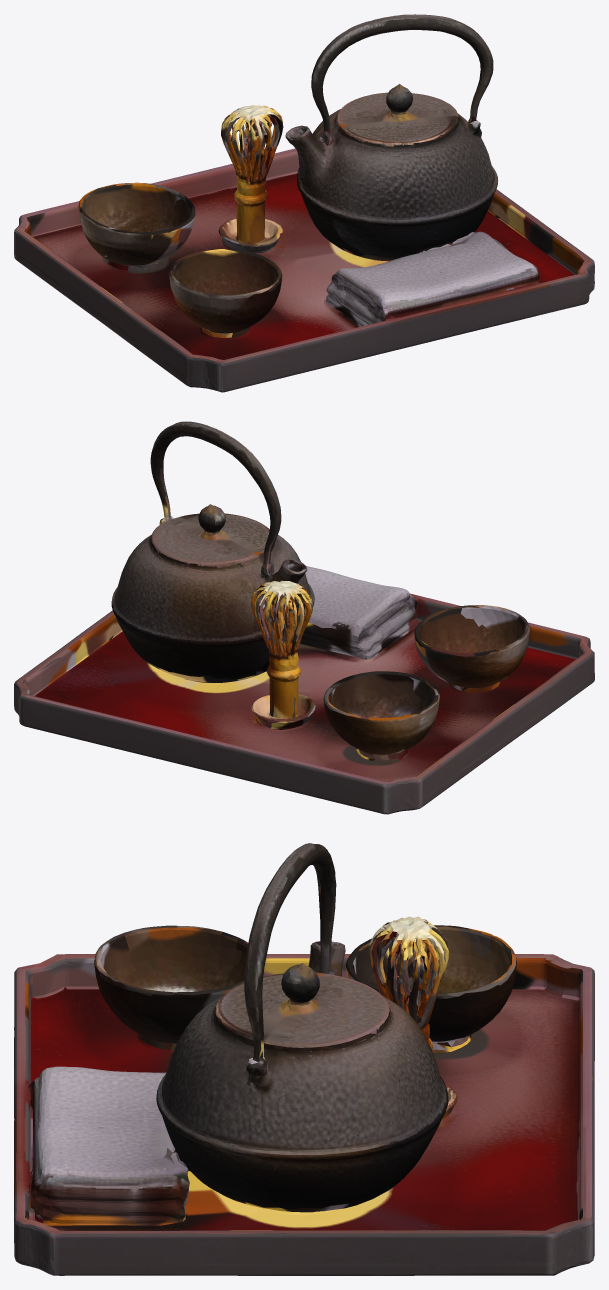
Rendered from traveler_env_coast_scorpion_willow_tea_service_00001_.glb.
The picture shows the model from 3 angles, top to bottom: view 1: azimuth 30°, elevation 25°; view 2: azimuth 150°, elevation 25°; view 3: azimuth 270°, elevation 25°; orthographic projection. The views are drawn at different scales.
Visible parts, largest first — view 1: temp_mesh.ply; view 2: temp_mesh.ply; view 3: temp_mesh.ply.
Boxes of the visible parts, left/top/right/bottom form: temp_mesh.ply: left=14, top=14, right=594, bottom=392; temp_mesh.ply: left=14, top=421, right=594, bottom=814; temp_mesh.ply: left=14, top=843, right=594, bottom=1275.
Size of the model in its own units: 1.97 by 1.11 by 1.72.
Materials: 1 (1 with a texture image).
